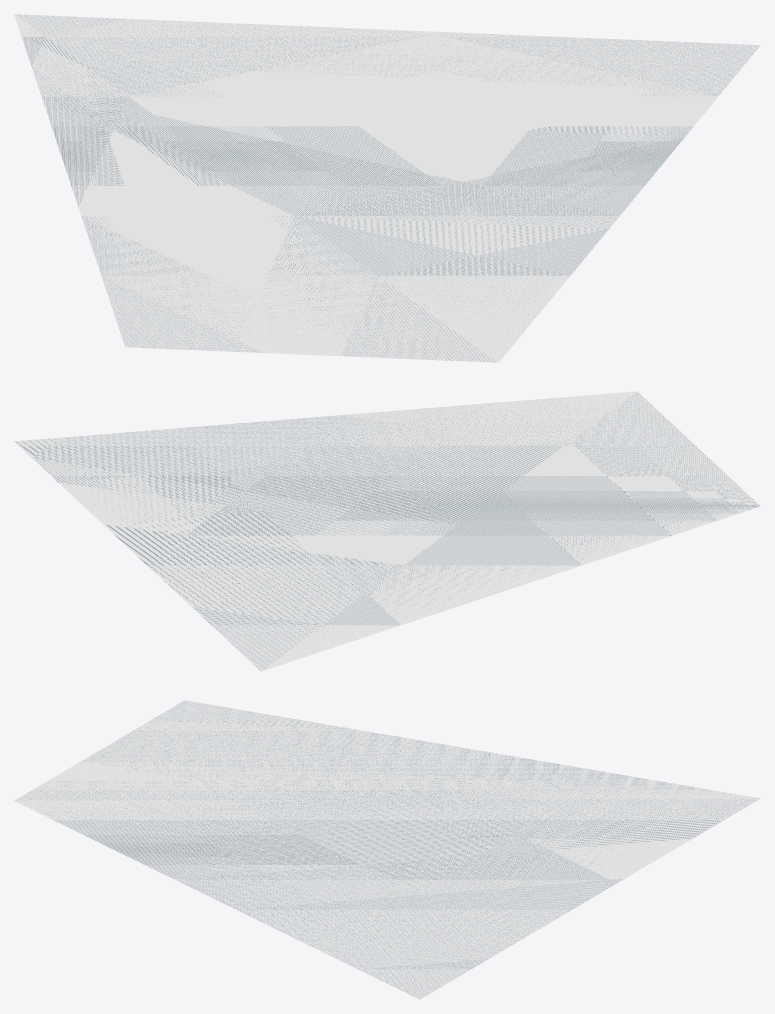
3 views of the same model, one above another, from view 1: azimuth 30°, elevation 25°; view 2: azimuth 150°, elevation 25°; view 3: azimuth 270°, elevation 25° (orthographic). The views are drawn at different scales.
Visible parts, largest first — view 1: Group1; view 2: Group1; view 3: Group1.
Part boxes in pixels (x1,y1,x2,y2): Group1: (14, 14, 760, 362); Group1: (14, 391, 760, 671); Group1: (14, 700, 760, 999).
Size of the model in its own units: 4.84 by 0 by 5.1.
